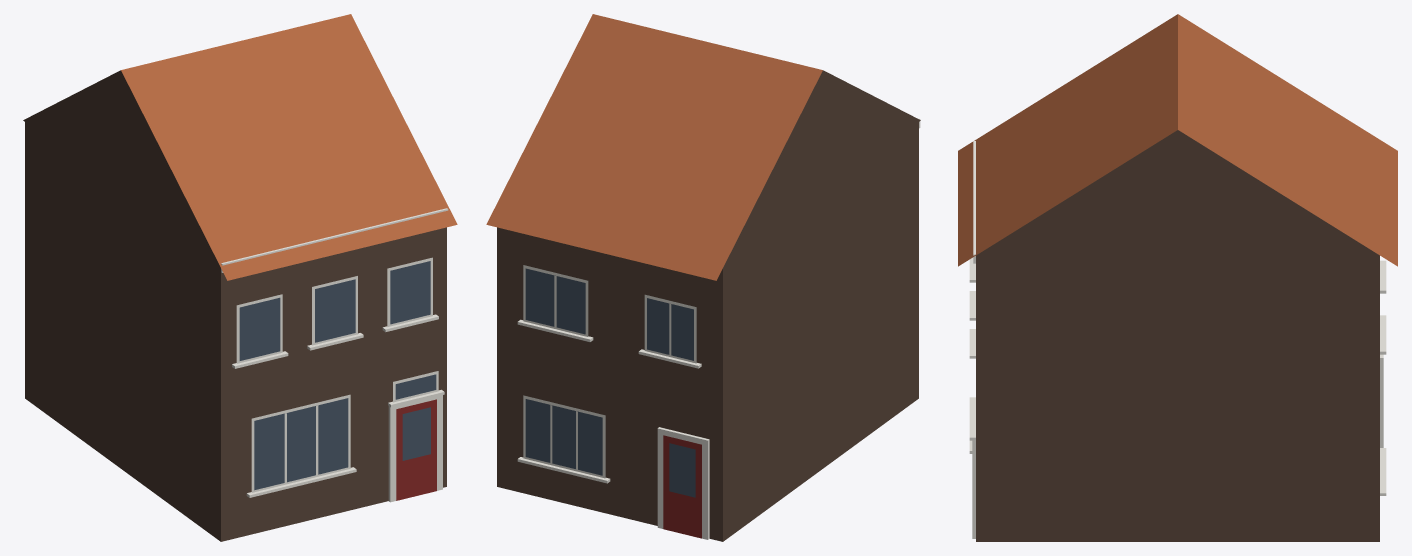
Rendered from nd-to-row__triple-orange__2__gable__long__solid__f0d0__mirror.glb.
The picture shows the model from 3 angles, left to right: view 1: azimuth 30°, elevation 25°; view 2: azimuth 150°, elevation 25°; view 3: azimuth 270°, elevation 25°; orthographic projection. The views are drawn at different scales.
Visible parts, largest first — view 1: nd-to-row__triple-orange__2__gable__long__solid__f0d0__mirro; view 2: nd-to-row__triple-orange__2__gable__long__solid__f0d0__mirro; view 3: nd-to-row__triple-orange__2__gable__long__solid__f0d0__mirro.
Part boxes in pixels (x1,y1,x2,y2): nd-to-row__triple-orange__2__gable__long__solid__f0d0__mirro: (23, 14, 457, 541); nd-to-row__triple-orange__2__gable__long__solid__f0d0__mirro: (486, 14, 920, 541); nd-to-row__triple-orange__2__gable__long__solid__f0d0__mirro: (958, 14, 1397, 541).
Size of the model in its own units: 5.38 by 8.95 by 8.64.
